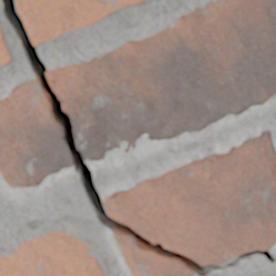brick: (15, 0, 146, 45), (0, 230, 105, 275), (0, 26, 12, 66)
broken_brick: (46, 0, 275, 160), (103, 130, 275, 265), (0, 78, 72, 187), (113, 230, 194, 275)
crack: (1, 0, 275, 275), (76, 64, 81, 70)
